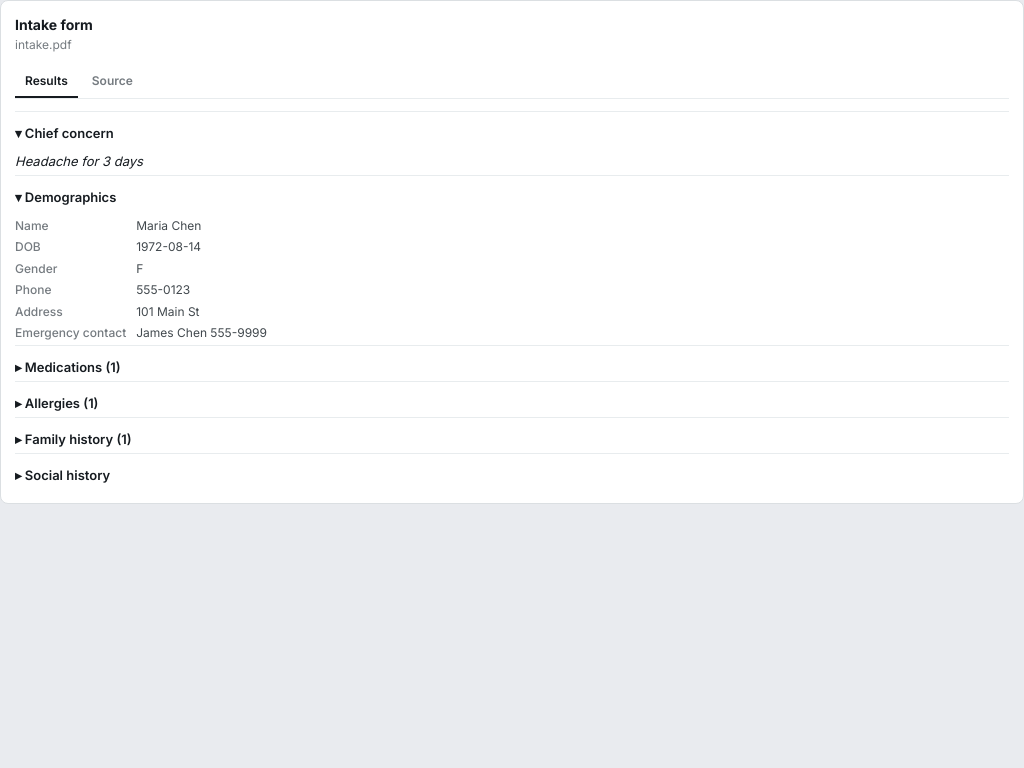
Test case: ExtractionResultsPanel › backend-shaped intake rendering (issue 034) › renders medication prescriber in the detail line when present
The image size is (1024, 768).
Click the button "▸ Medications (1)" at (68, 368), box [15, 354, 121, 381]
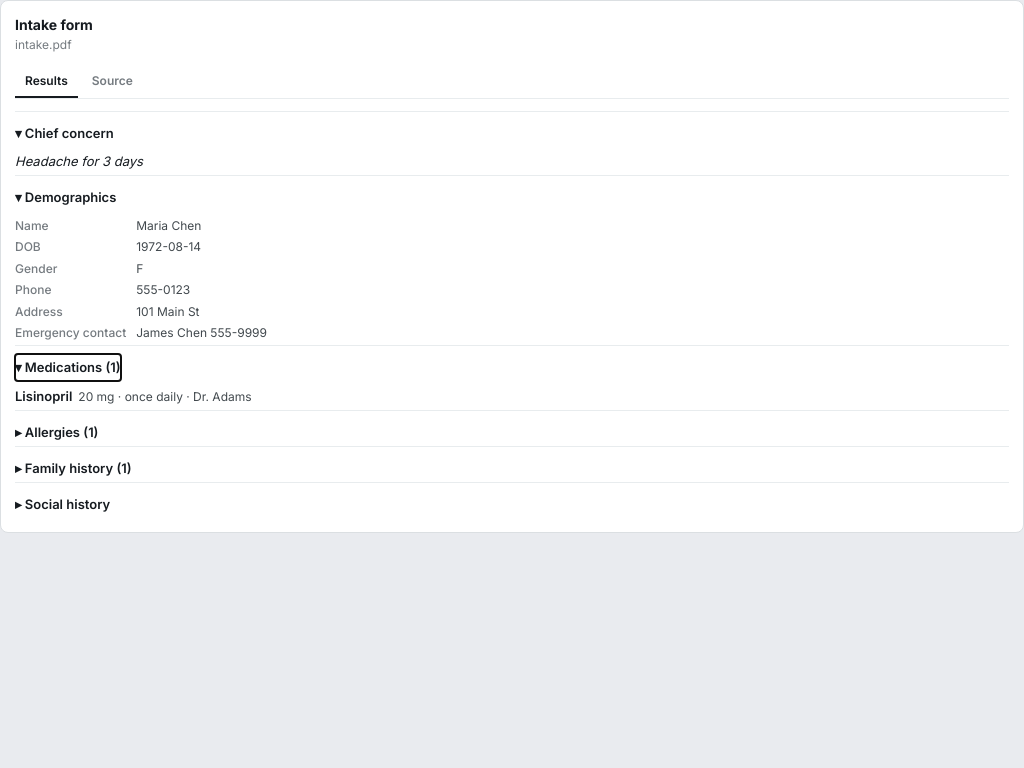
Expected: the text "20 mg · once daily · Dr. Adams" is shown, [78, 388, 252, 405]
